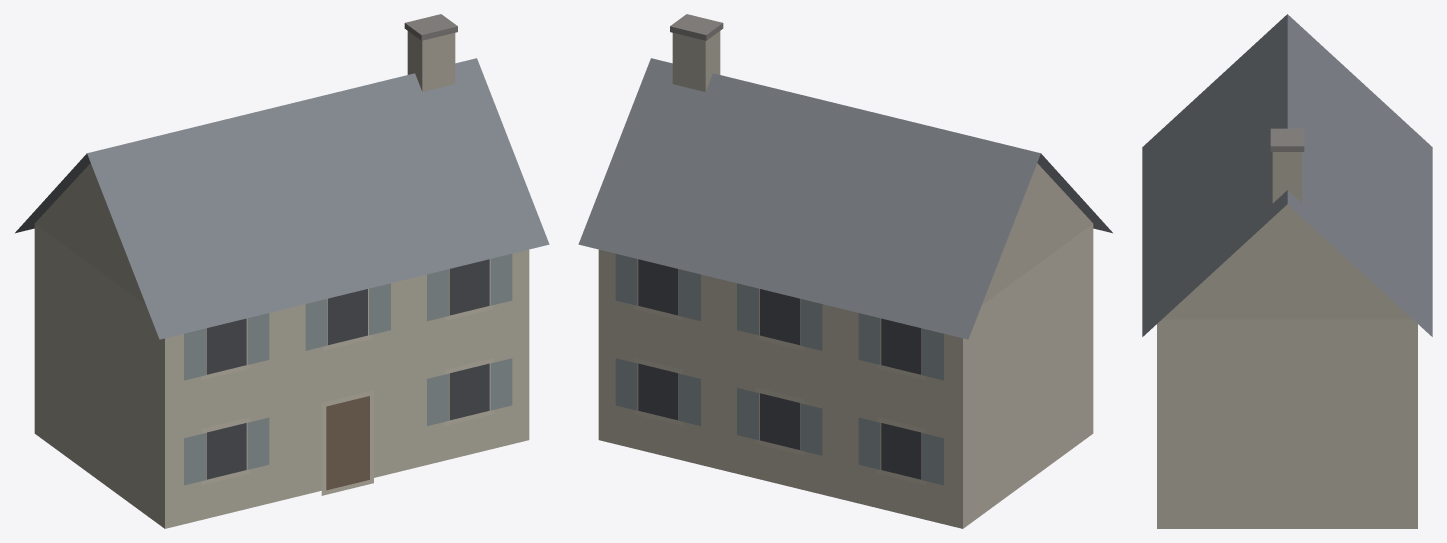
The model's file is stenhus_a_L0.glb.
3 views of the same model, side by side, from view 1: azimuth 30°, elevation 25°; view 2: azimuth 150°, elevation 25°; view 3: azimuth 270°, elevation 25° (orthographic).
Parts seen in each view (by area): view 1: geometry_0; view 2: geometry_0; view 3: geometry_0.
Boxes of the visible parts, box(x1,y1,x2,y2) form: geometry_0: box(15, 14, 549, 528); geometry_0: box(578, 14, 1112, 528); geometry_0: box(1142, 14, 1432, 528).
Size of the model in its own units: 10.7 by 9.97 by 6.9.
